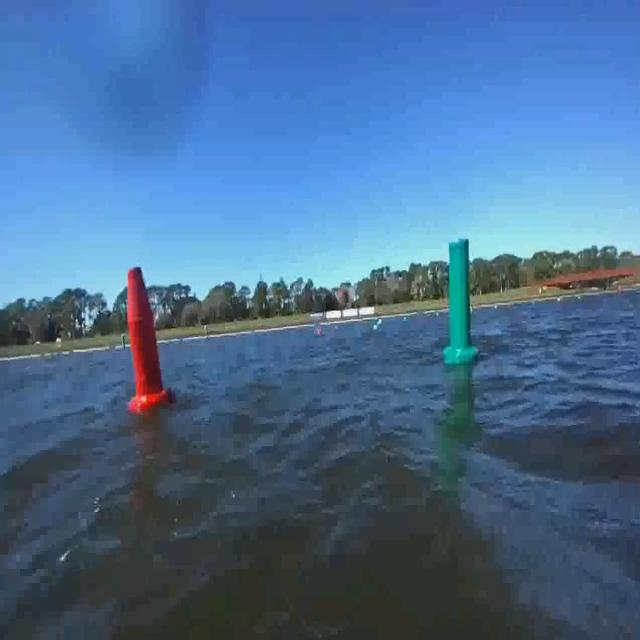green-column-buoy: (442, 233, 476, 366)
red-column-buoy: (127, 266, 172, 414)
